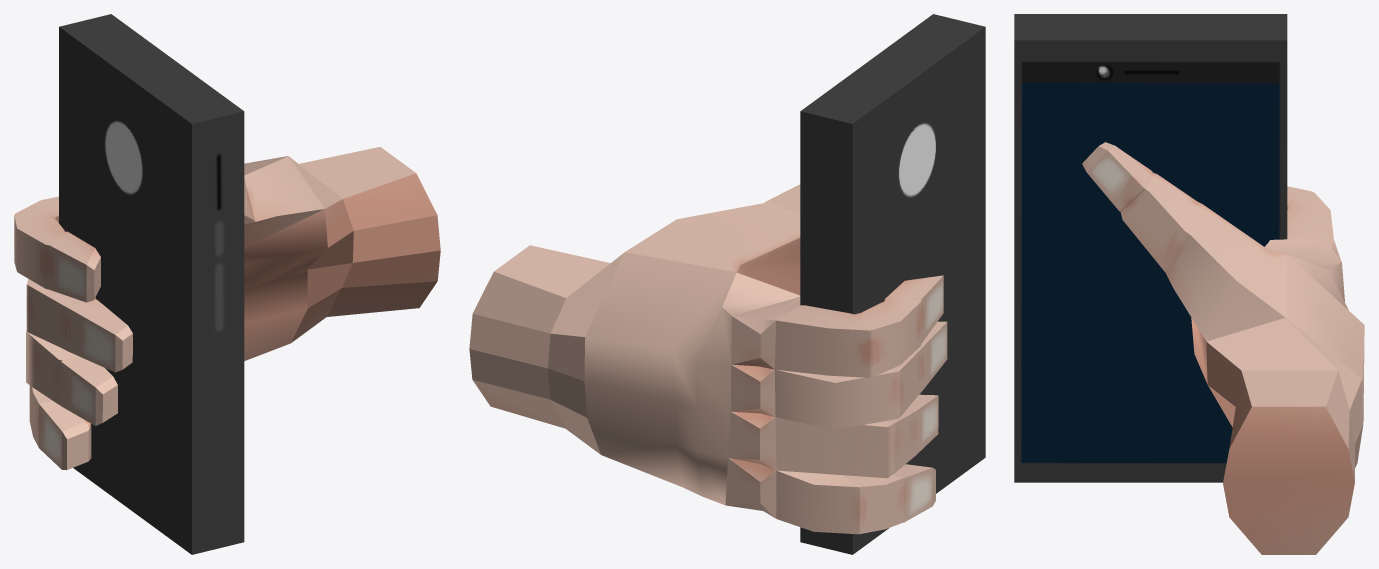
Rendered from Mano (Fixed).fbx.
3 renders of one model, left to right at view 1: azimuth 30°, elevation 25°; view 2: azimuth 150°, elevation 25°; view 3: azimuth 270°, elevation 25°, orthographic. The views are drawn at different scales.
Parts seen in each view (by area): view 1: Celu1; view 2: Celu1; view 3: Celu1.
Boxes of the visible parts, x1,y1,x2,y2 form: Celu1: (14,14,440,554); Celu1: (469,14,985,554); Celu1: (1014,14,1364,554).
Size of the model in its own units: 12.39 by 12.9 by 9.26.
